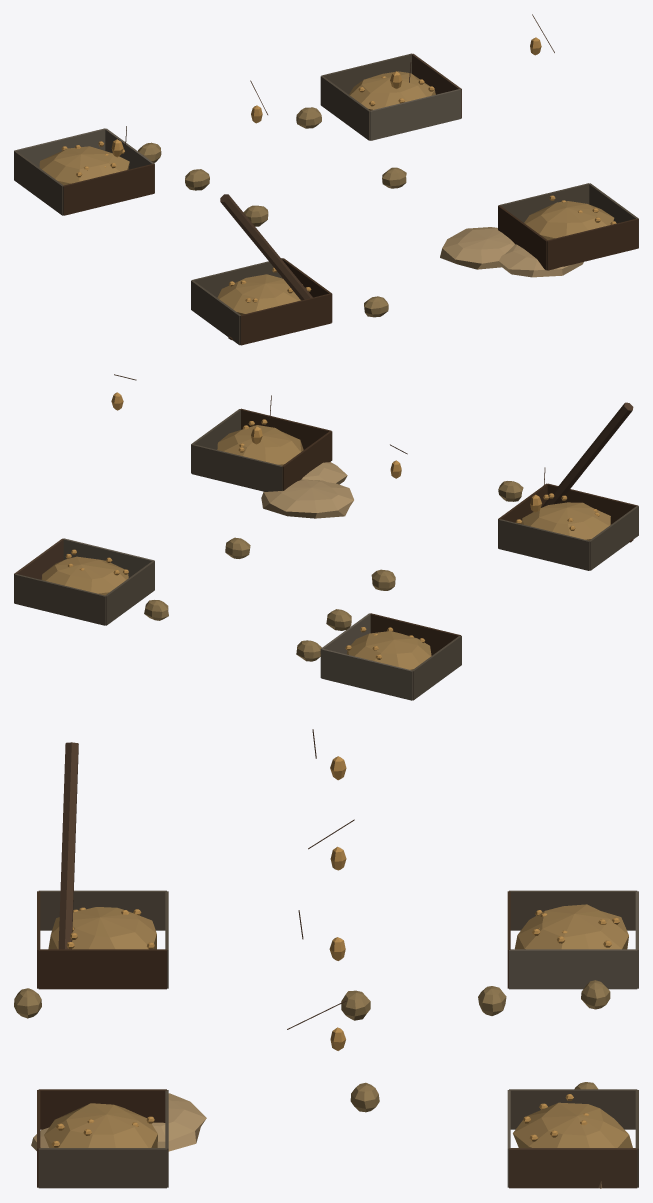
The model's file is TownRoom_cellar.glb.
3 views of the same model, one above another, from view 1: azimuth 30°, elevation 25°; view 2: azimuth 150°, elevation 25°; view 3: azimuth 270°, elevation 25° (orthographic). The views are drawn at different scales.
Visible parts, largest first — view 1: TownRoom_cellar.001; view 2: TownRoom_cellar.001; view 3: TownRoom_cellar.001.
Part boxes in pixels (x1=…): TownRoom_cellar.001: x1=14, y1=14, x2=638, y2=345; TownRoom_cellar.001: x1=14, y1=374, x2=638, y2=700; TownRoom_cellar.001: x1=14, y1=729, x2=638, y2=1188.
Size of the model in its own units: 12.27 by 4.4 by 11.69.
